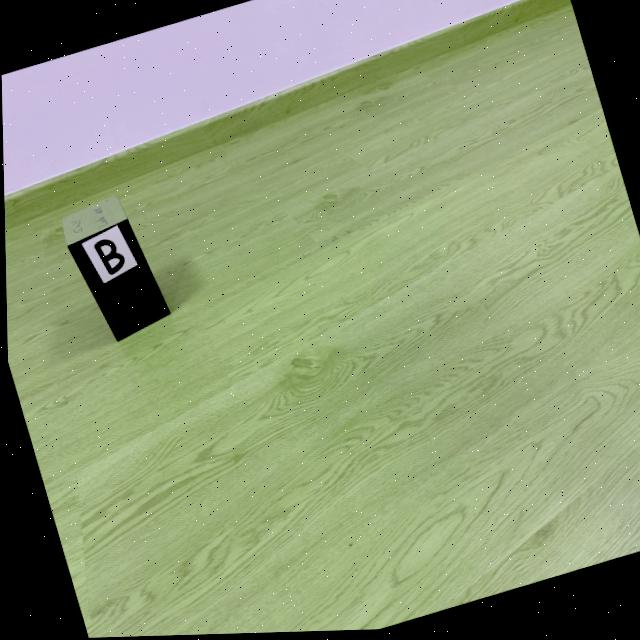B: (92, 239, 124, 275)
